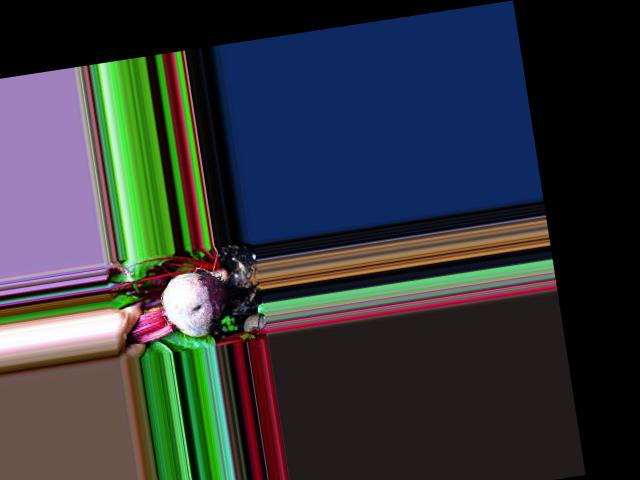beet: (116, 261, 266, 347)
